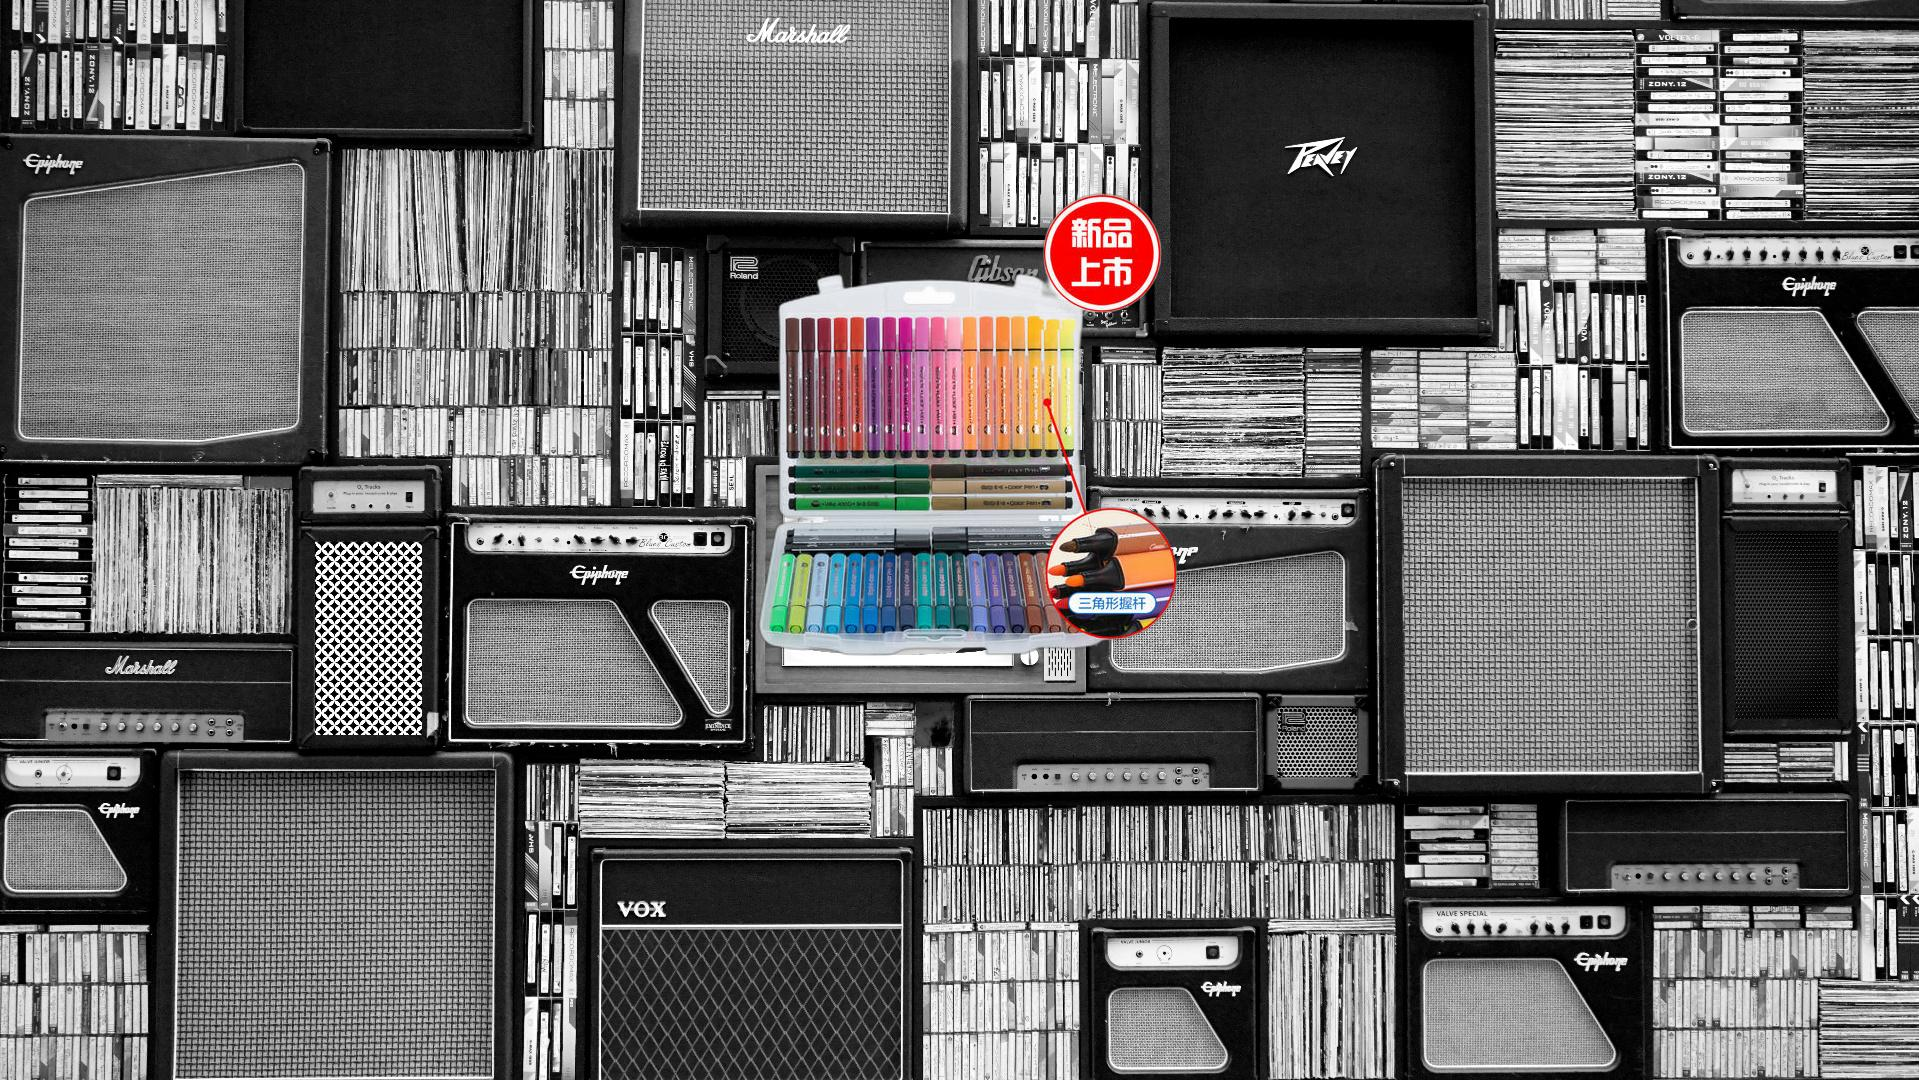penholder: (754, 190, 1182, 659)
